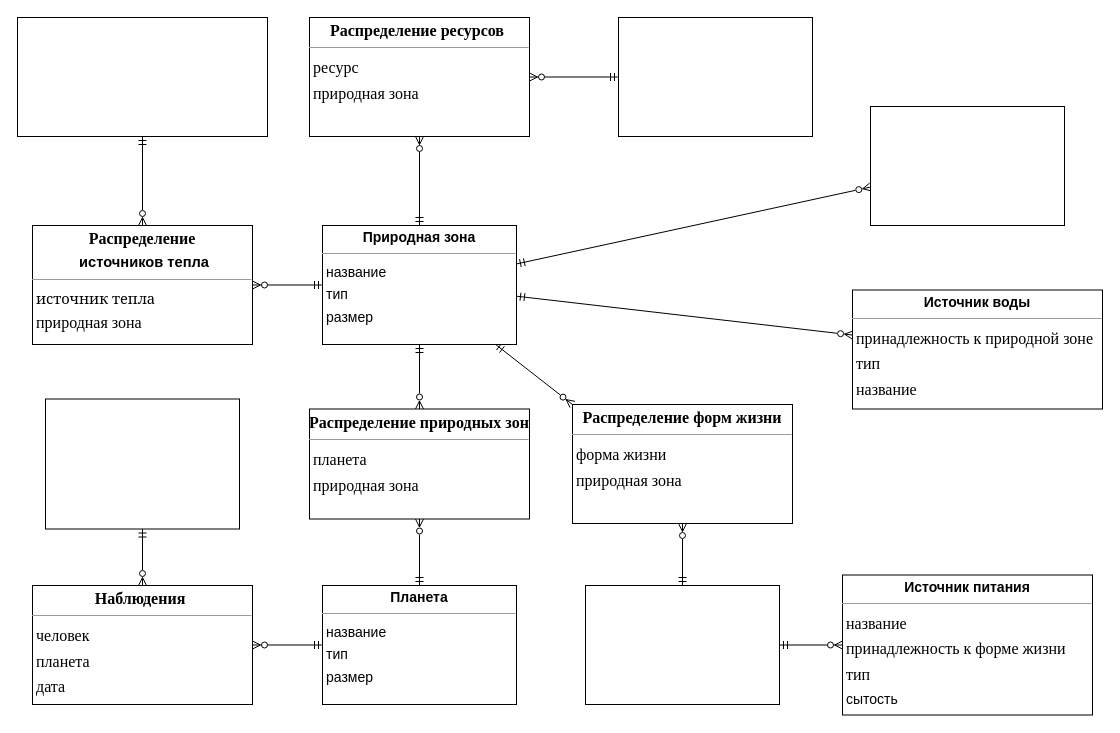
Some shapes in this 1120 by 733 pixel diagram are drawn without their labels. The shapes that lost their labels are listed below. From the top down, each one's centre as x and y in pixels, then its label:
(142,76): Источник тепла тип уровень тепла
(715,76): Ресурс название тип
(967,166): Катаклизмы название природная зона дата
(142,463): Человек имя рост вес воозраст
(682,644): Форма жизни название тип
